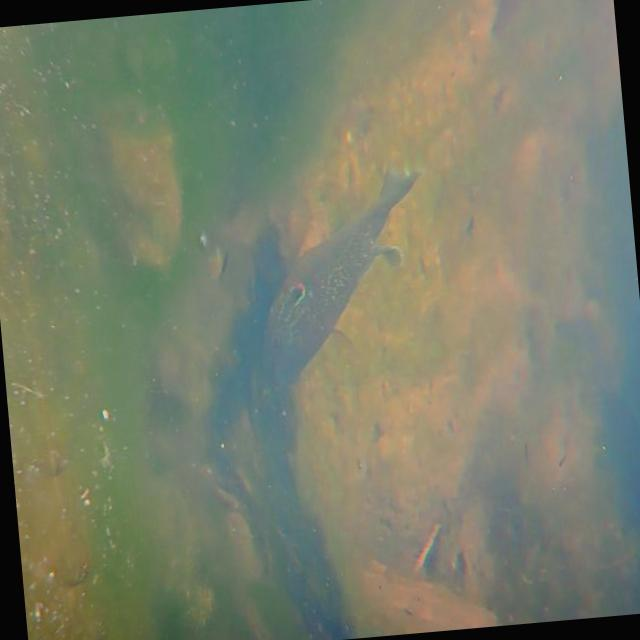Gunes Levregi: (230, 154, 442, 404)
